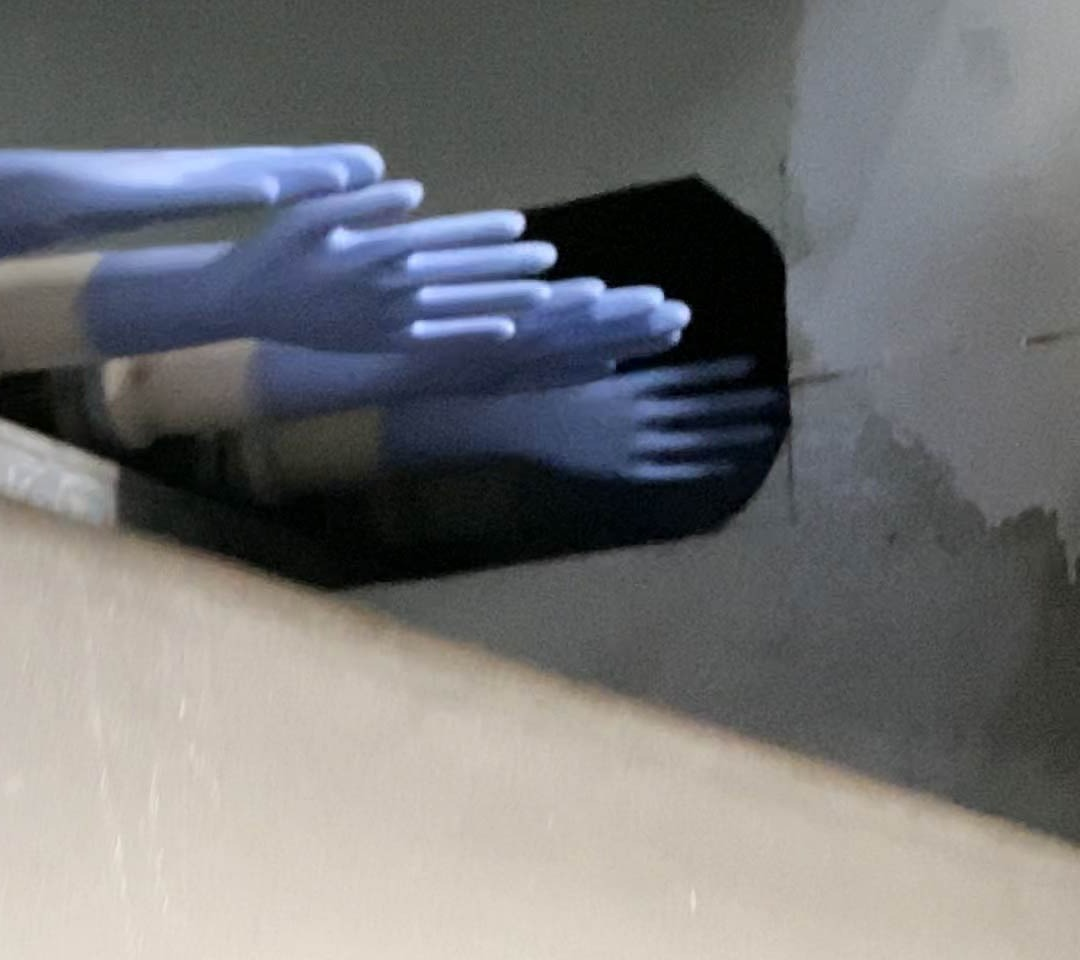glove: (89, 176, 558, 354), (254, 275, 691, 385), (380, 355, 774, 477), (1, 134, 385, 254)
